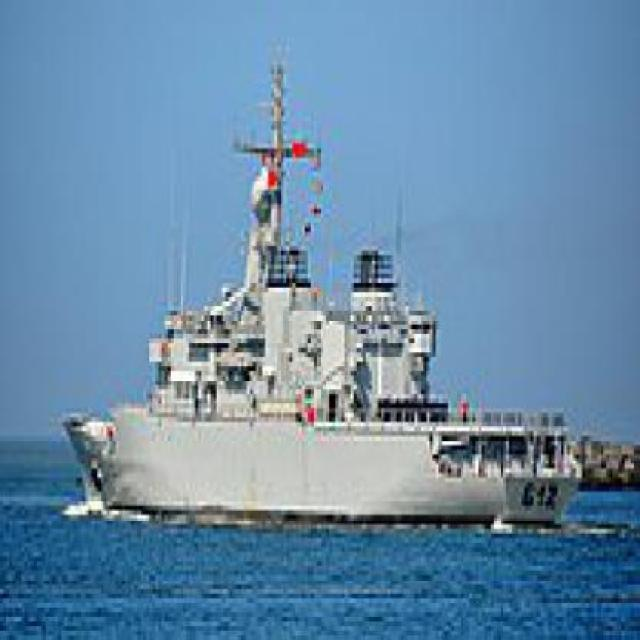warship2: (46, 47, 599, 530)
